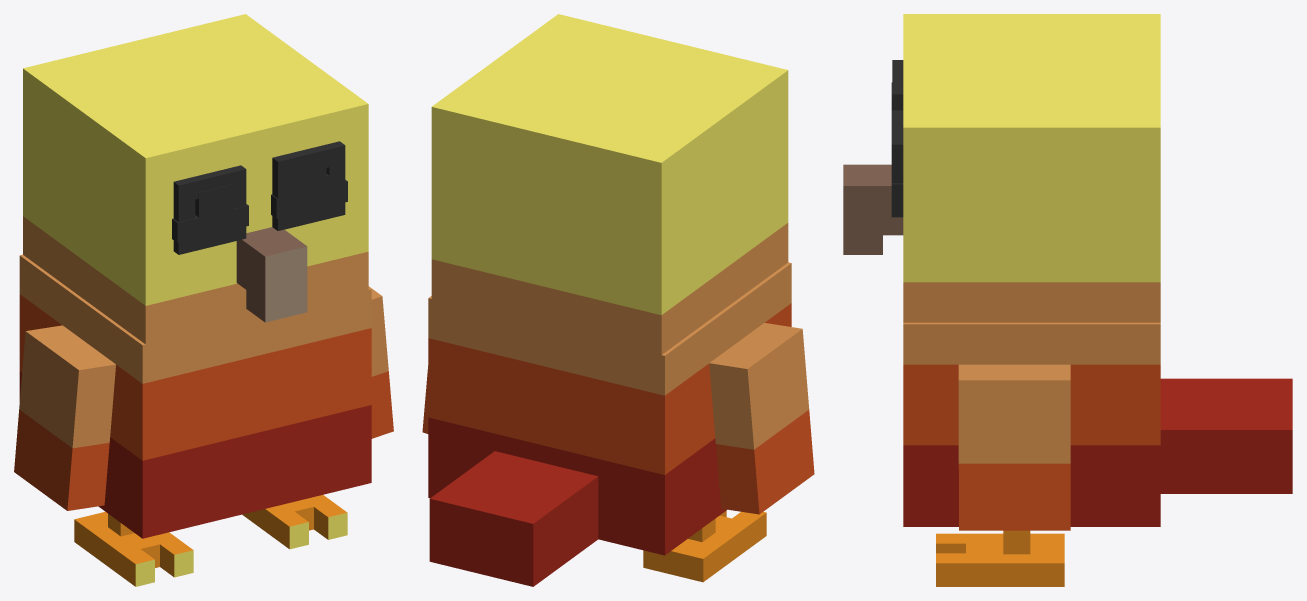
3 views of the same model, side by side, from view 1: azimuth 30°, elevation 25°; view 2: azimuth 150°, elevation 25°; view 3: azimuth 270°, elevation 25° (orthographic). The views are drawn at different scales.
Visible parts, largest first — view 1: Ch_18_Head, Ch_18, Ch_18_Wing_L, Ch_18_Leg_L, Ch_18_Eye_03_R, Ch_18_Leg_R, Ch_18_Eye_01, Ch_18_Eye_03_L, Ch_18_Wing_R, Ch_18_Eye_02; view 2: Ch_18_Head, Ch_18, Ch_18_Wing_L, Ch_18_Leg_L; view 3: Ch_18_Head, Ch_18, Ch_18_Wing_R, Ch_18_Leg_R, Ch_18_Eye_03_R, Ch_18_Eye_03_L.
Boxes of the visible parts, left/top/right/bottom form: Ch_18_Head: left=23, top=14, right=368, bottom=344; Ch_18: left=19, top=254, right=371, bottom=538; Ch_18_Wing_L: left=14, top=325, right=115, bottom=510; Ch_18_Leg_L: left=74, top=511, right=193, bottom=586; Ch_18_Eye_03_R: left=272, top=141, right=345, bottom=230; Ch_18_Leg_R: left=242, top=495, right=347, bottom=549; Ch_18_Eye_01: left=195, top=161, right=326, bottom=237; Ch_18_Eye_03_L: left=173, top=165, right=246, bottom=254; Ch_18_Wing_R: left=368, top=286, right=393, bottom=438; Ch_18_Eye_02: left=172, top=180, right=347, bottom=242; Ch_18_Head: left=431, top=14, right=788, bottom=354; Ch_18: left=428, top=262, right=791, bottom=586; Ch_18_Wing_L: left=709, top=323, right=814, bottom=514; Ch_18_Leg_L: left=643, top=510, right=766, bottom=582; Ch_18_Head: left=843, top=14, right=1160, bottom=322; Ch_18: left=903, top=322, right=1292, bottom=526; Ch_18_Wing_R: left=958, top=364, right=1070, bottom=530; Ch_18_Leg_R: left=936, top=530, right=1064, bottom=586; Ch_18_Eye_03_R: left=891, top=110, right=903, bottom=217; Ch_18_Eye_03_L: left=892, top=60, right=903, bottom=110.
Size of the model in its own units: 8.08 by 10.43 by 9.19.
